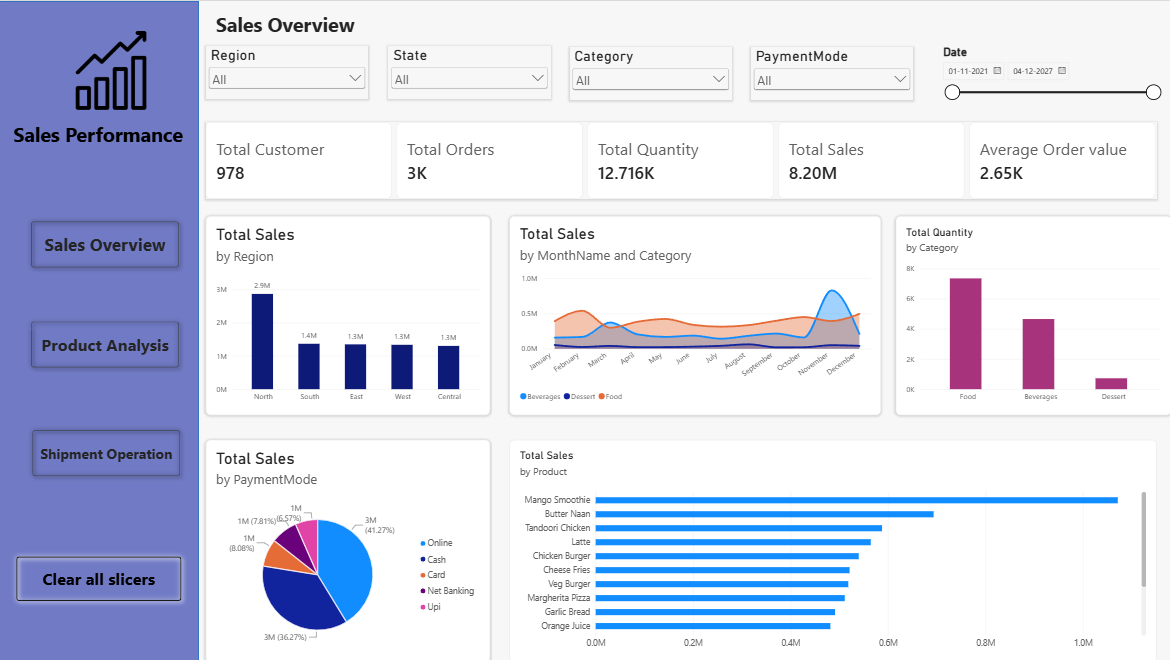

This screenshot's page, from the dashboard's own definition file:
{"tool":"powerbi","page":{"name":"Sales Overview","canvas":[1920,1080],"ordinal":0},"visuals":[{"type":"cardVisual","fields":{"Data":["Measure.Total Customer","Measure.Total Orders","Measure.Total Quantity","Measure.Total Sales","Measure.Average Order value"]},"box":[341.7,197.6,1554,125.6],"z":0},{"type":"clusteredColumnChart","fields":{"Category":["Dim_Region.Region"],"Y":["Measure.Total Sales"]},"box":[341.7,352,465.2,325.2],"z":1},{"type":"lineChart","fields":{"Category":["Dim_Date.MonthName"],"Series":["Dim_Product.Category"],"Y":["Measure.Total Sales"]},"box":[837.7,352,607.2,325.2],"z":2},{"type":"pieChart","fields":{"Category":["Dim_Payment.PaymentMode"],"Y":["Measure.Total Sales"]},"box":[341.7,716.3,465.2,364.3],"z":3},{"type":"textbox","box":[1721,286,175,391],"z":5},{"type":"textbox","box":[356.6,15.5,330,59.8],"z":6},{"type":"clusteredBarChart","fields":{"Category":["Dim_Product.Product"],"Y":["Measure.Total Sales"]},"box":[837.7,716.3,1058,364.3],"z":7},{"type":"columnChart","fields":{"Category":["Dim_Product.Category"],"Y":["Measure.Total Quantity"]},"box":[1469.6,352,450.8,325.2],"z":8},{"type":"slicer","fields":{"Values":["Dim_Date.Date"]},"box":[1537.6,72,368.4,162.6],"z":10},{"type":"slicer","fields":{"Values":["Dim_Region.Region"]},"box":[341.1,73.1,265.5,86.4],"z":11},{"type":"slicer","fields":{"Values":["Dim_Payment.PaymentMode"]},"box":[1232.9,76.2,265.5,86.4],"z":12},{"type":"slicer","fields":{"Values":["Dim_Product.Category"]},"box":[936.5,76.2,265.5,86.4],"z":13},{"type":"slicer","fields":{"Values":["Dim_Region.State"]},"box":[640.1,73.1,265.5,86.4],"z":14},{"type":"shape","box":[0,0,330,1080.9],"z":15},{"type":"textbox","box":[0,197.1,356.6,64.2],"z":16},{"type":"image","box":[115.2,46.5,144,132.9],"z":17},{"type":"actionButton","box":[46.5,352.2,259.2,93],"z":18},{"type":"actionButton","box":[46.5,513.9,259.2,93],"z":19},{"type":"actionButton","box":[48.7,693.3,259.2,93],"z":20},{"type":"actionButton","box":[22.2,899.3,288,90.8],"z":21}]}

Visuals, with their boxes in screenshot pixels (x1, y1, x2, y2), scaled from the page's 1920x1080 canvas onto the 1170x660 screenshot:
cardVisual - Measure.Total Customer x Measure.Total Orders: l=208, t=121, r=1155, b=198
clusteredColumnChart - Dim_Region.Region x Measure.Total Sales: l=208, t=215, r=492, b=414
lineChart - Dim_Date.MonthName x Dim_Product.Category: l=510, t=215, r=880, b=414
pieChart - Dim_Payment.PaymentMode x Measure.Total Sales: l=208, t=438, r=492, b=659
textbox: l=1049, t=175, r=1155, b=414
textbox: l=217, t=9, r=418, b=46
clusteredBarChart - Dim_Product.Product x Measure.Total Sales: l=510, t=438, r=1155, b=659
columnChart - Dim_Product.Category x Measure.Total Quantity: l=896, t=215, r=1169, b=414
slicer - Dim_Date.Date: l=937, t=44, r=1161, b=143
slicer - Dim_Region.Region: l=208, t=45, r=370, b=97
slicer - Dim_Payment.PaymentMode: l=751, t=47, r=913, b=99
slicer - Dim_Product.Category: l=571, t=47, r=732, b=99
slicer - Dim_Region.State: l=390, t=45, r=552, b=97
shape: l=0, t=0, r=201, b=659
textbox: l=0, t=120, r=217, b=160
image: l=70, t=28, r=158, b=110
actionButton: l=28, t=215, r=186, b=272
actionButton: l=28, t=314, r=186, b=371
actionButton: l=30, t=424, r=188, b=481
actionButton: l=14, t=550, r=189, b=605
